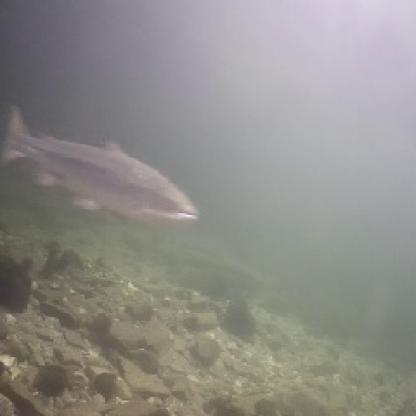salmon: (0, 101, 206, 226)
